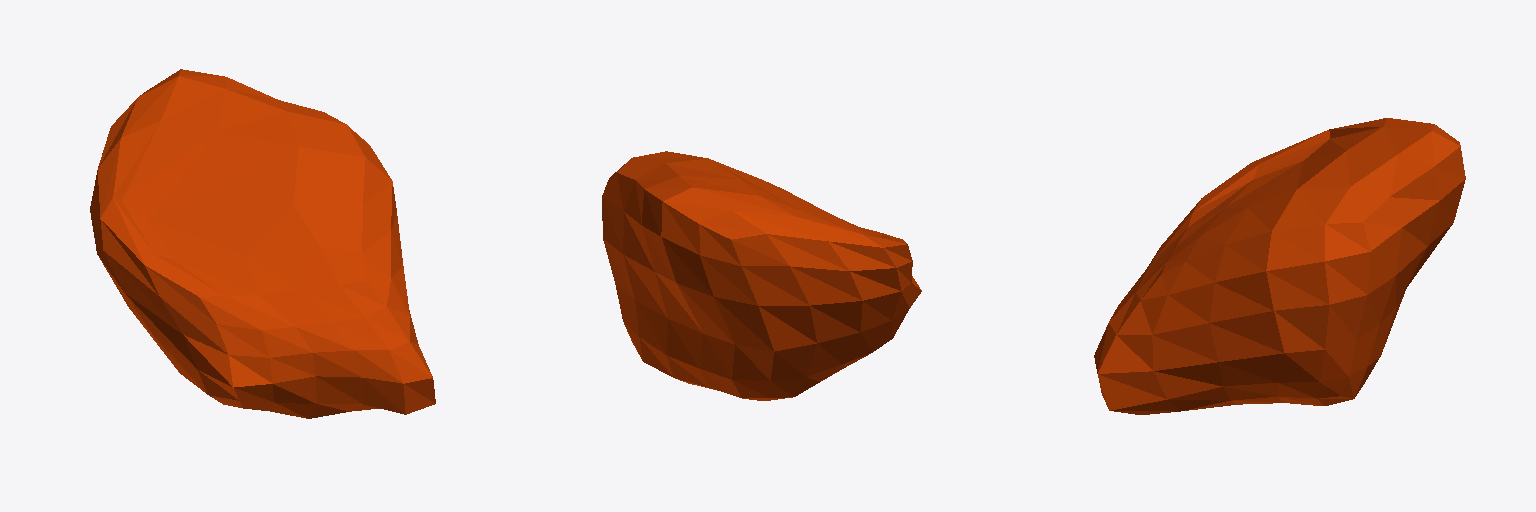
Rendered from rocks2.obj.
3 renders of one model, left to right at view 1: azimuth 30°, elevation 25°; view 2: azimuth 150°, elevation 25°; view 3: azimuth 270°, elevation 25°, orthographic.
Parts seen in each view (by area): view 1: Cube_Cube.003; view 2: Cube_Cube.003; view 3: Cube_Cube.003.
Boxes of the visible parts, x1,y1,x2,y2 form: Cube_Cube.003: [90, 69, 435, 418]; Cube_Cube.003: [602, 151, 921, 400]; Cube_Cube.003: [1094, 118, 1465, 414].
Bounding box in the file's own units: 2.44 × 2.07 × 2.8.